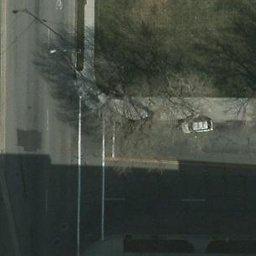car: (181, 118, 214, 134)
